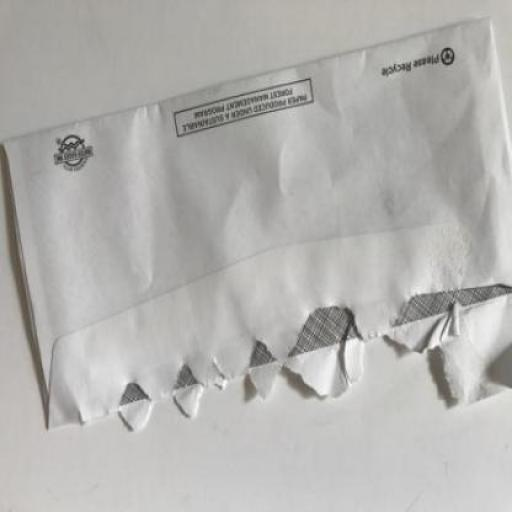paper: (1, 20, 511, 436)
